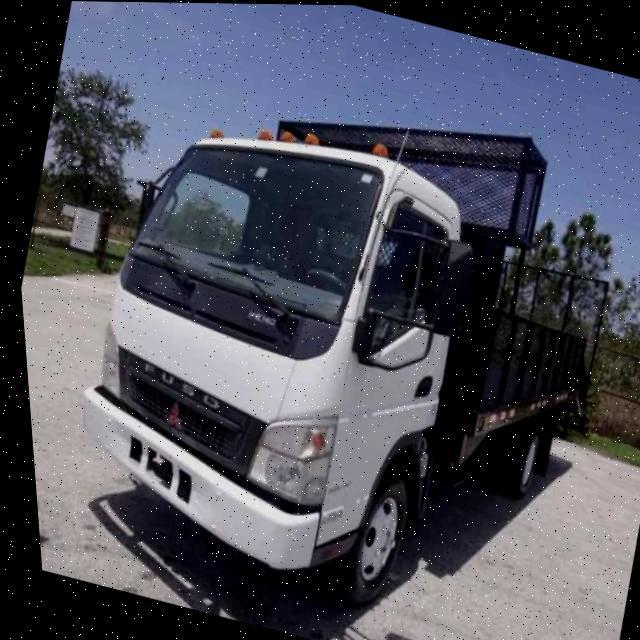truck: (21, 30, 640, 640)
